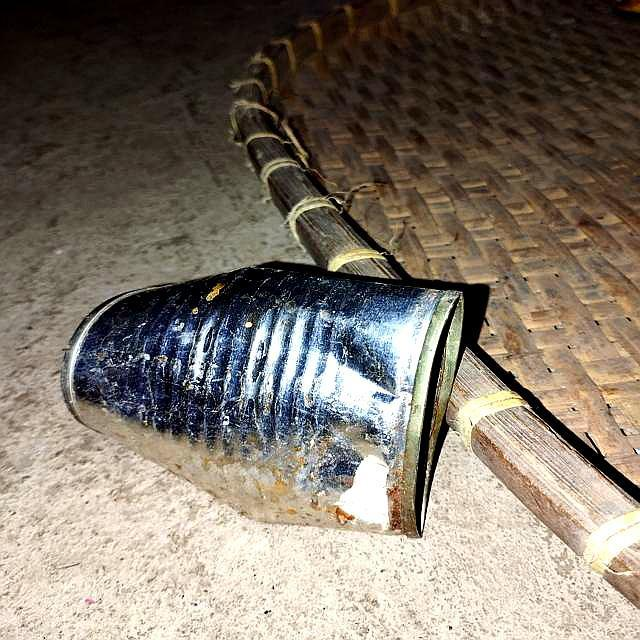Non-biodegradable: (60, 258, 468, 540)
